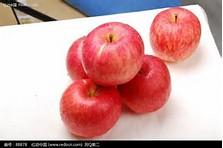apple: (88, 22, 139, 82)
